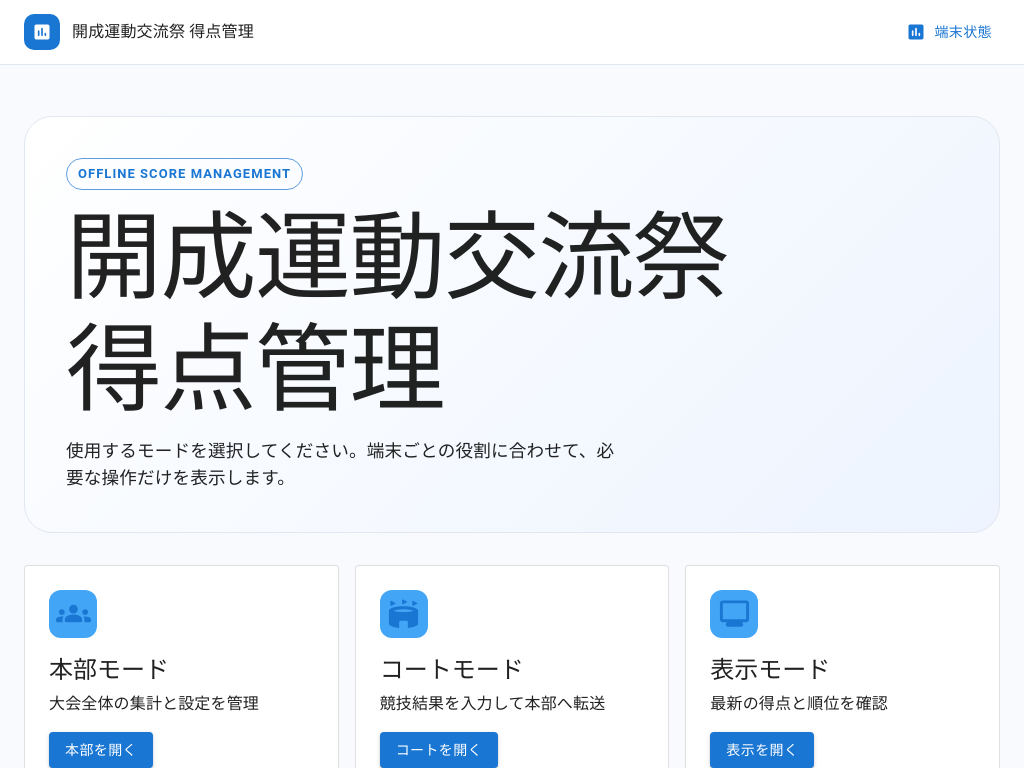
App Court configuration availability › uses the active tournament configuration on a Court device before a Court is assigned
Click the button with aria-label "本部モード": (101, 750) [49,732,153,767]
(page scrolled)
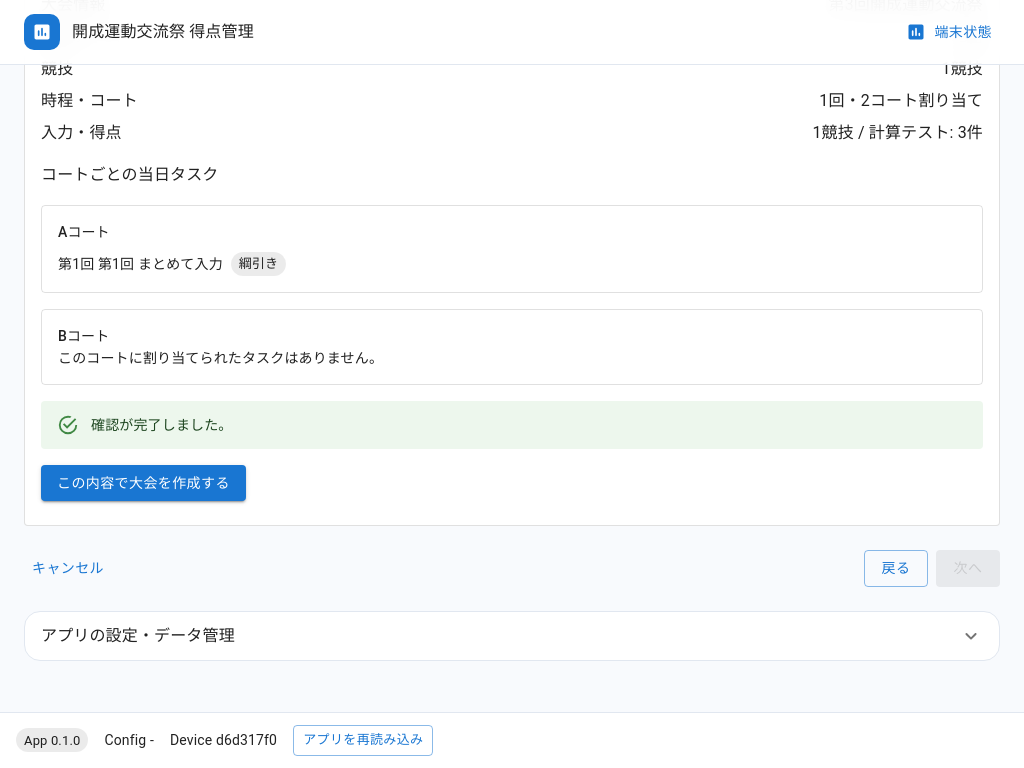
Click the button "この内容で大会を作成する": (143, 483) [41,465,246,501]
(page scrolled)
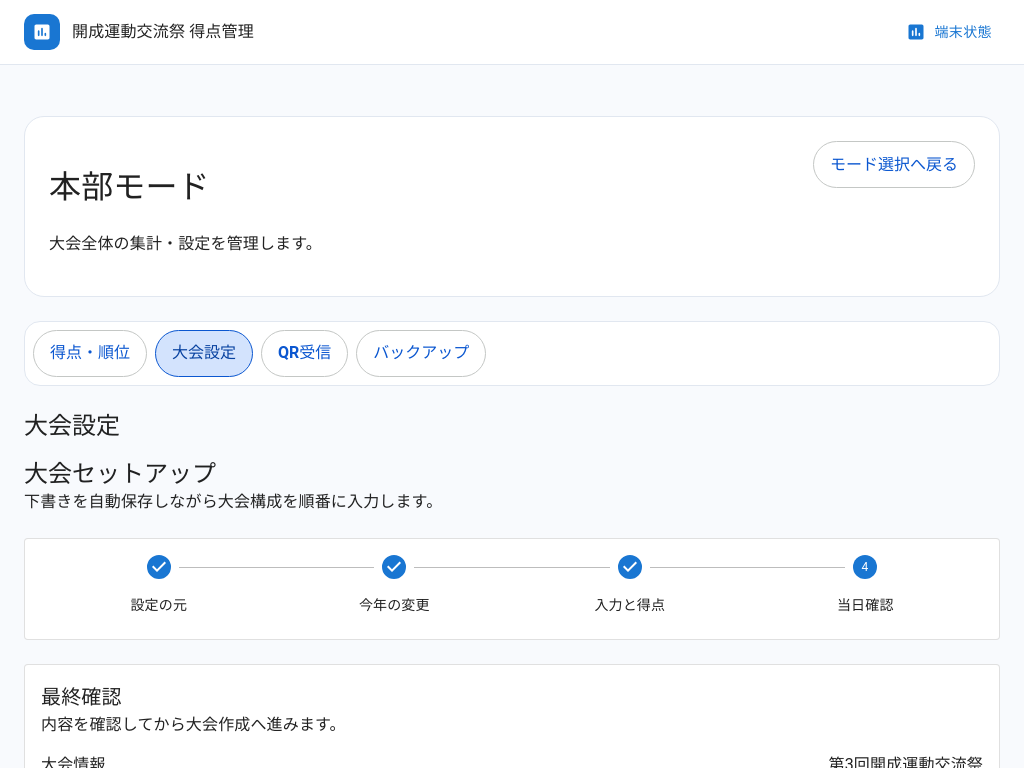
Click the button "モード選択へ戻る": (894, 165) [813,141,975,188]
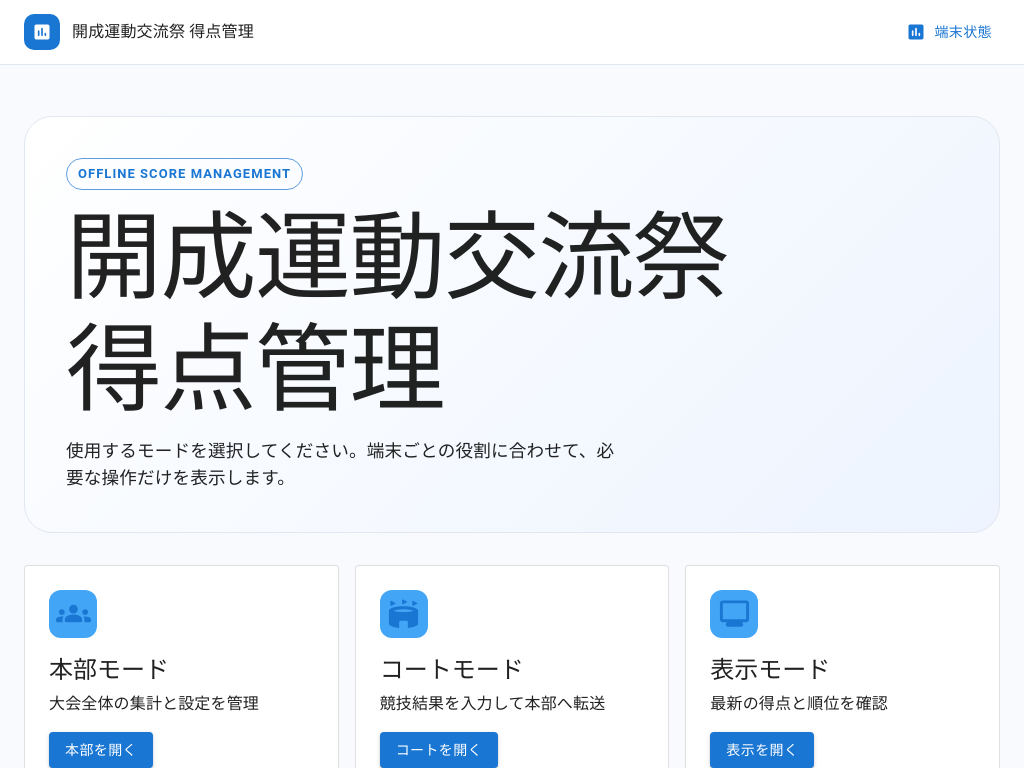
Click the button with aria-label "コートモード": (439, 750) [380,732,498,767]
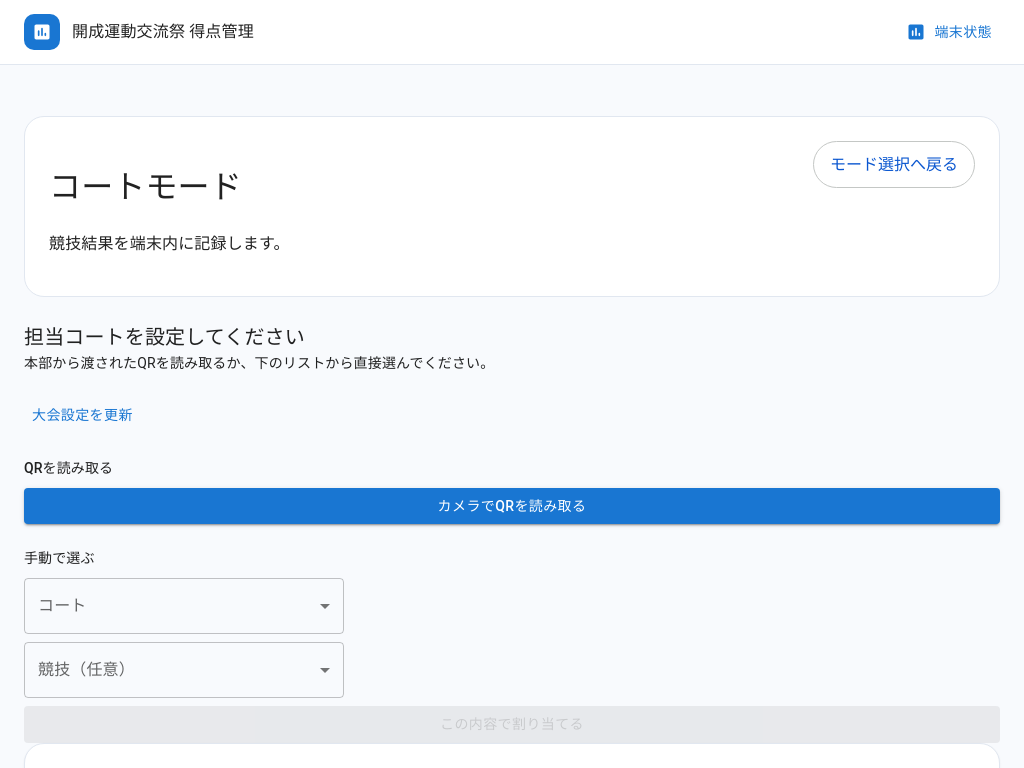
Check: the heading "担当コートを設定してください" is shown, box [24,325,305,349]
